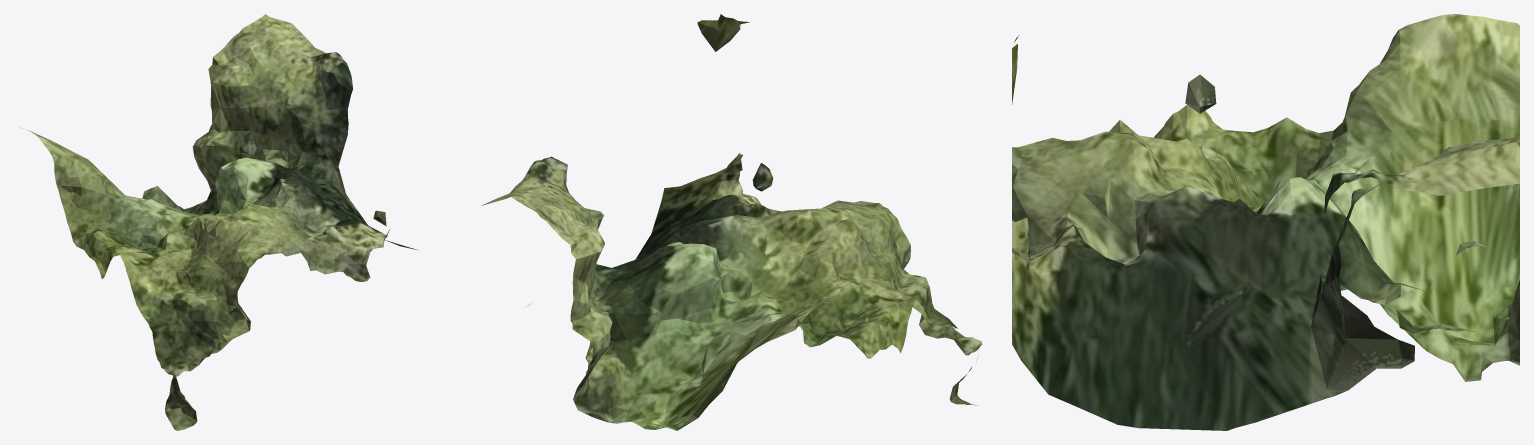
The picture shows the model from 3 angles, left to right: view 1: azimuth 30°, elevation 25°; view 2: azimuth 150°, elevation 25°; view 3: azimuth 270°, elevation 25°; orthographic projection. The views are drawn at different scales.
Bounding box in the file's own units: 5.9 × 5.81 × 5.9.
4 materials, 4 textured.
